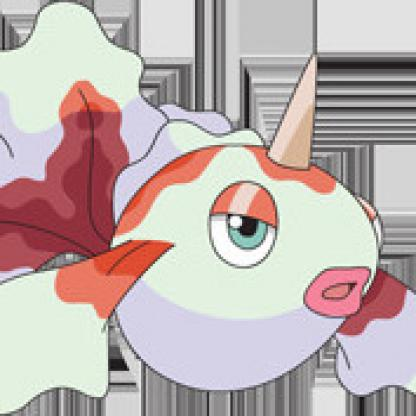Goldeen: (1, 1, 415, 408)
